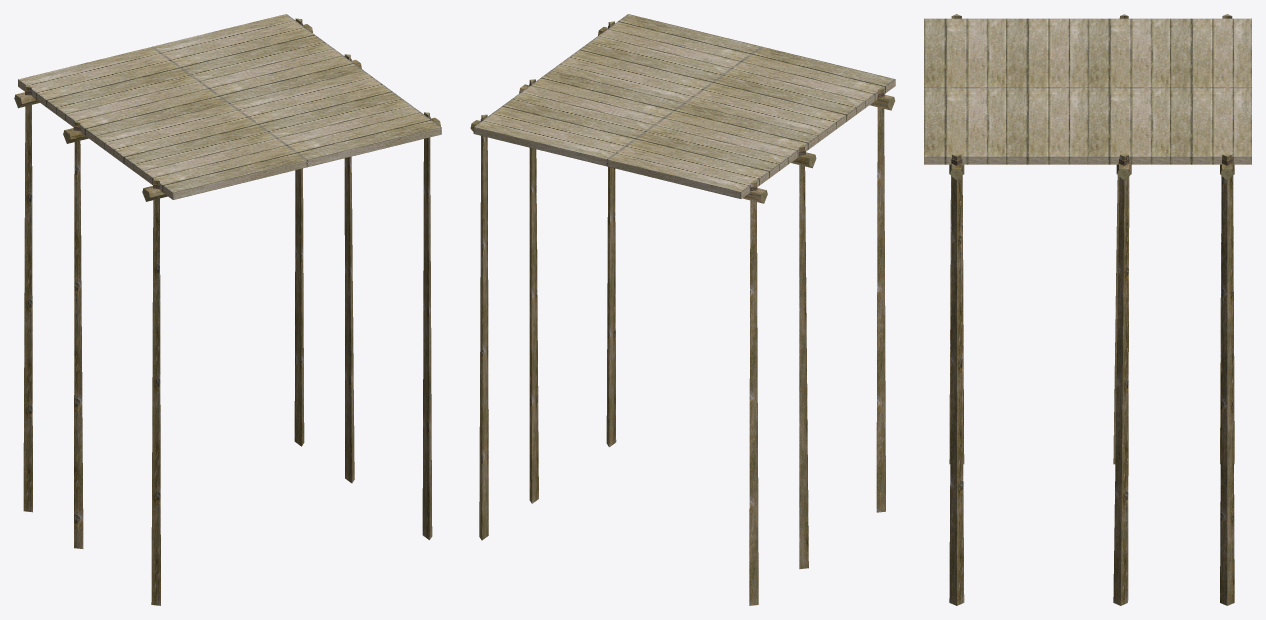
Rendered from thm_endr_lake_platform_square_s01_l1.fbx.
3 views of the same model, side by side, from view 1: azimuth 30°, elevation 25°; view 2: azimuth 150°, elevation 25°; view 3: azimuth 270°, elevation 25° (orthographic). The views are drawn at different scales.
Parts seen in each view (by area): view 1: mesh_node; view 2: mesh_node; view 3: mesh_node.
Part boxes in pixels (<box>): mesh_node: <box>14,14,441,605</box>; mesh_node: <box>470,14,895,605</box>; mesh_node: <box>924,14,1251,605</box>.
Size of the model in its own units: 8.68 by 12.07 by 8.
